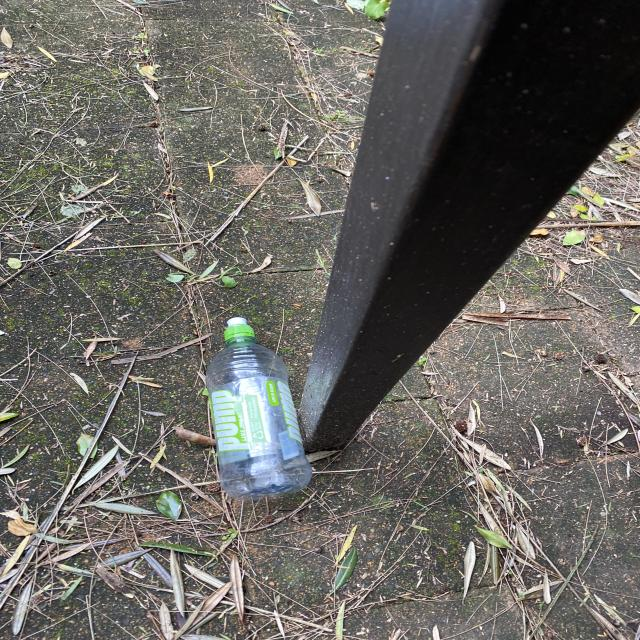bottle: (210, 310, 316, 498)
